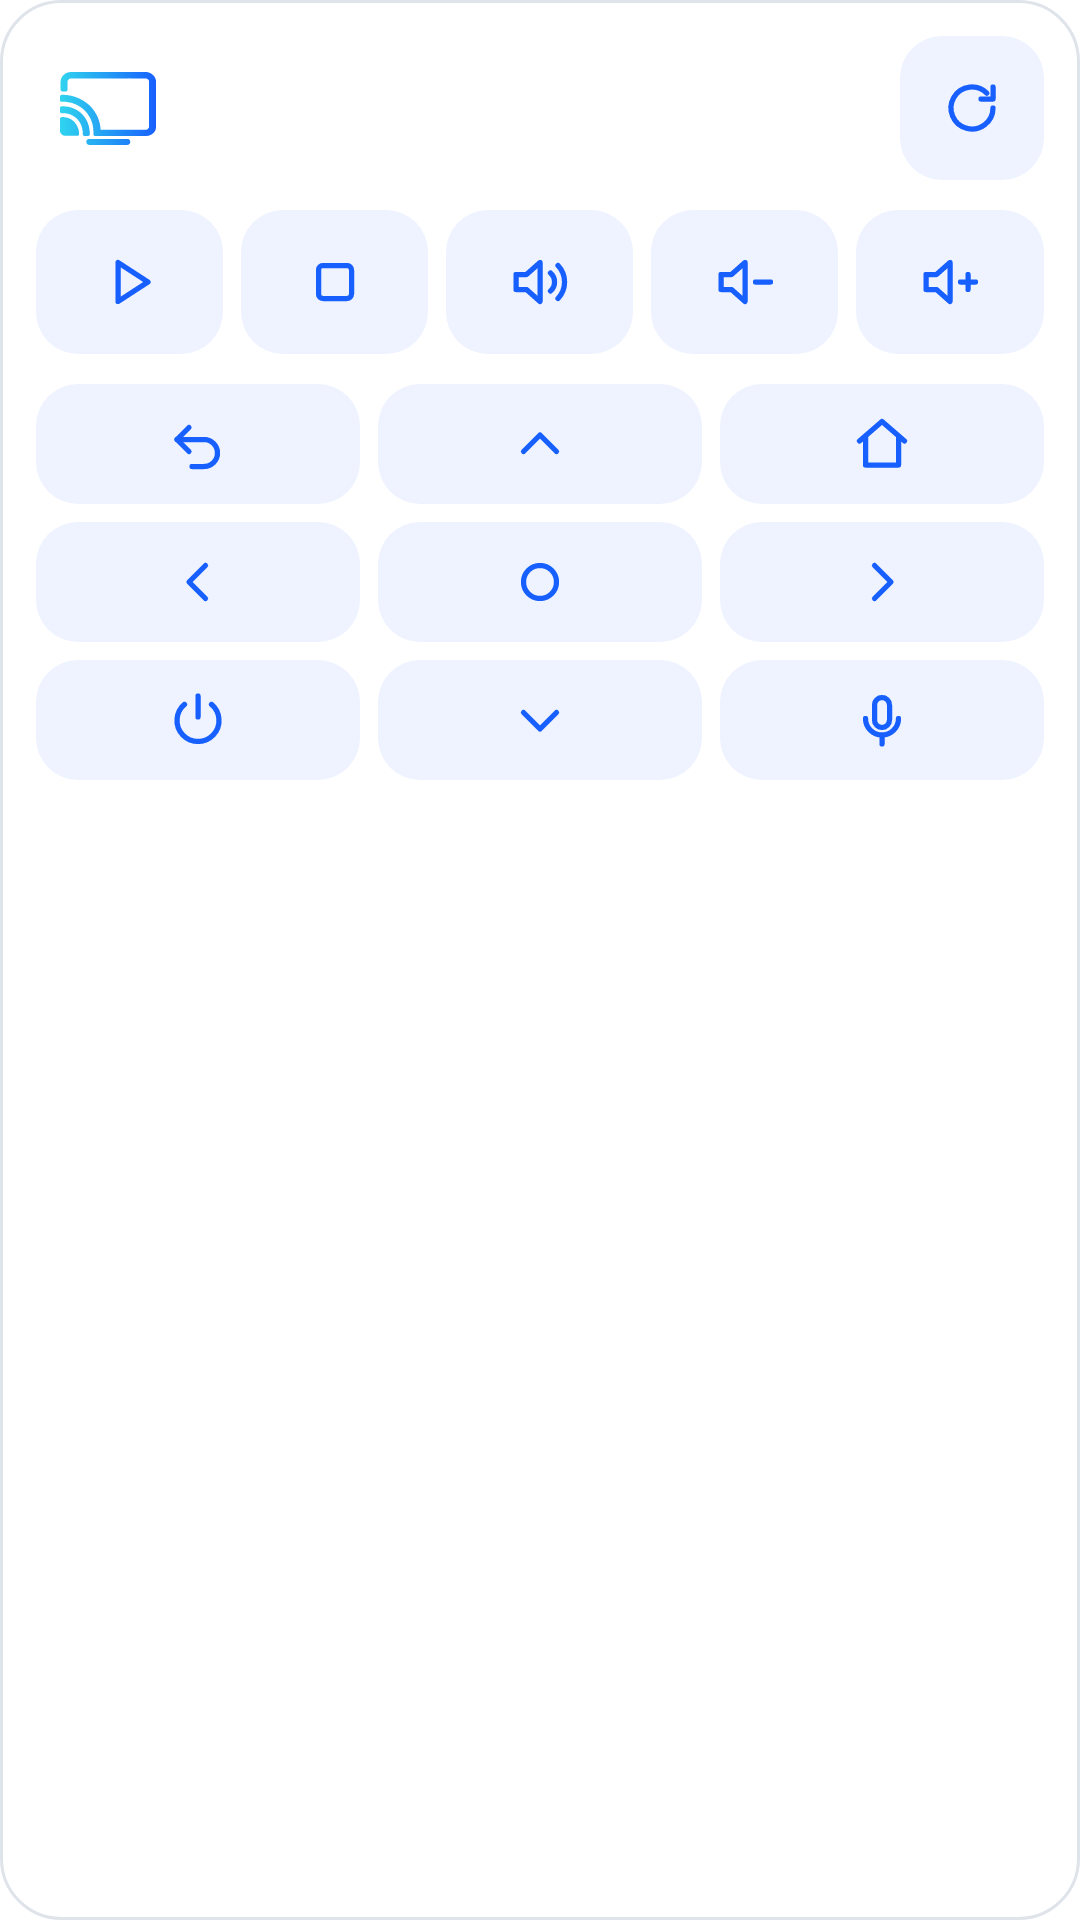

Screen size 1080*1920. Icon name, then its box in pixels as (x1, y1, x2, y2):
Back: (36, 384, 360, 504)
Down: (378, 660, 702, 780)
Google Assistant: (720, 660, 1044, 780)
Home: (720, 384, 1044, 504)
Left: (36, 522, 360, 642)
Mute: (446, 210, 633, 354)
OK: (378, 522, 702, 642)
Play: (36, 210, 223, 354)
Power: (36, 660, 360, 780)
Right: (720, 522, 1044, 642)
Stop: (241, 210, 428, 354)
Up: (378, 384, 702, 504)
Volume down: (651, 210, 838, 354)
Volume up: (856, 210, 1044, 354)
